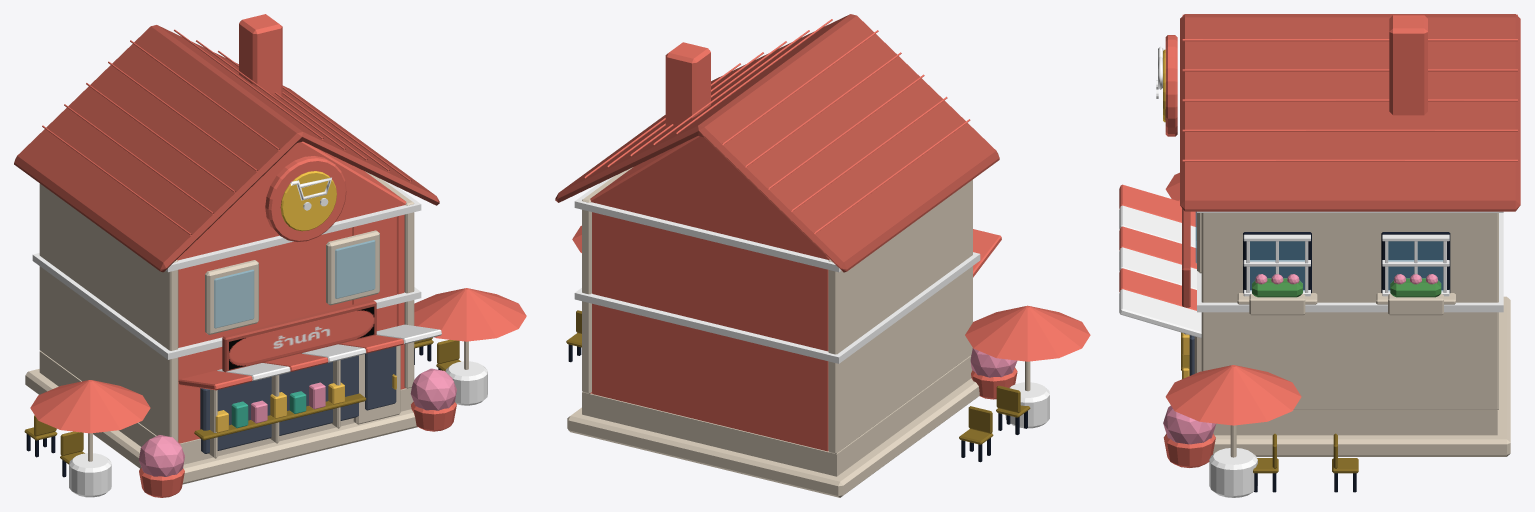
Rendered from town-shop.glb.
The picture shows the model from 3 angles, left to right: view 1: azimuth 30°, elevation 25°; view 2: azimuth 150°, elevation 25°; view 3: azimuth 270°, elevation 25°; orthographic projection. The views are drawn at different scales.
Visible parts, largest first — view 1: BODY_Shop, ROOF_GEOMETRY_Shop; view 2: BODY_Shop, ROOF_GEOMETRY_Shop; view 3: BODY_Shop, ROOF_GEOMETRY_Shop.
Boxes of the visible parts, <box> form: BODY_Shop: <box>24,171,526,497</box>; ROOF_GEOMETRY_Shop: <box>14,14,439,272</box>; BODY_Shop: <box>566,167,1090,497</box>; ROOF_GEOMETRY_Shop: <box>555,14,999,272</box>; BODY_Shop: <box>1119,172,1510,497</box>; ROOF_GEOMETRY_Shop: <box>1156,14,1520,211</box>.
Size of the model in its own units: 12.9 by 9 by 8.25.
15 materials, 1 textured.
